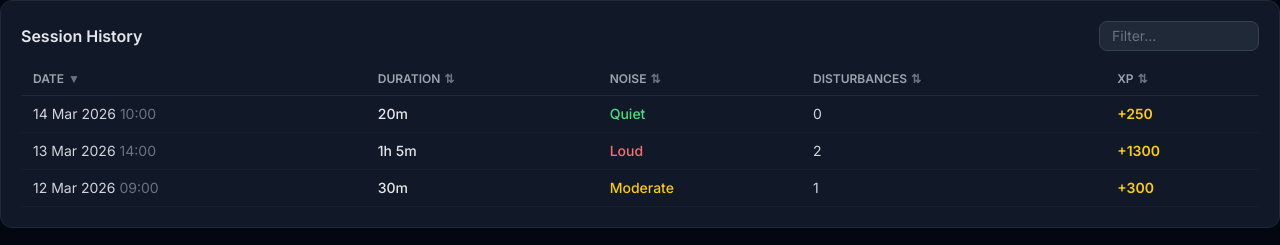
Test: SessionTable › filter hides non-matching rows
The width and height of the screenshot is (1280, 245).
Type "Quiet" into the field with placeholder "Filter…". click: (1179, 36)
box: [1099,21,1259,51]
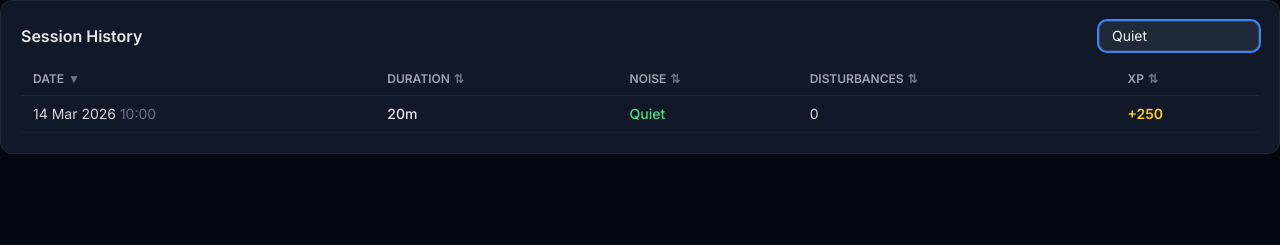
Expected: the text "+250" is shown, [1116,96,1259,132]
Expected: the text "+1300" is gone
